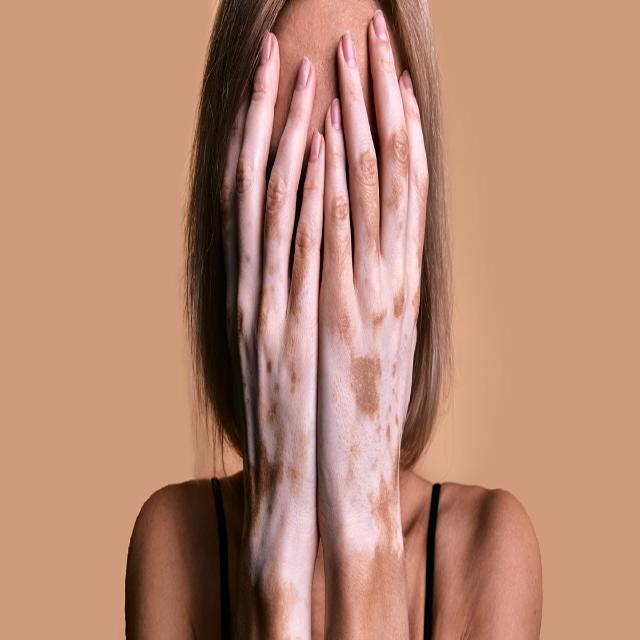vitiligo: (318, 99, 417, 640), (227, 127, 312, 640)
